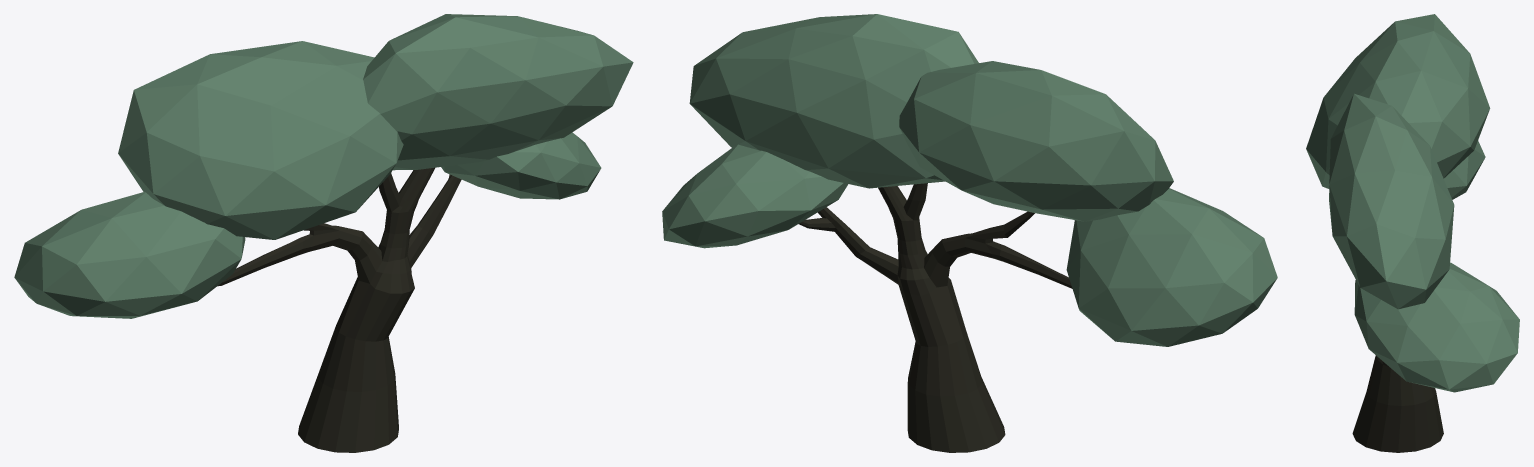
The model's file is Tree3.fbx.
3 views of the same model, side by side, from view 1: azimuth 30°, elevation 25°; view 2: azimuth 150°, elevation 25°; view 3: azimuth 270°, elevation 25° (orthographic). The views are drawn at different scales.
Parts seen in each view (by area): view 1: Tree3; view 2: Tree3; view 3: Tree3.
Part boxes in pixels (left/top/right/bottom): Tree3: left=14, top=14, right=633, bottom=452; Tree3: left=662, top=14, right=1277, bottom=452; Tree3: left=1306, top=14, right=1519, bottom=452.
Bounding box in the file's own units: 220 × 141 × 75.99.
